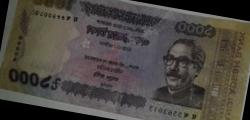1000 taka: (16, 1, 239, 119)
